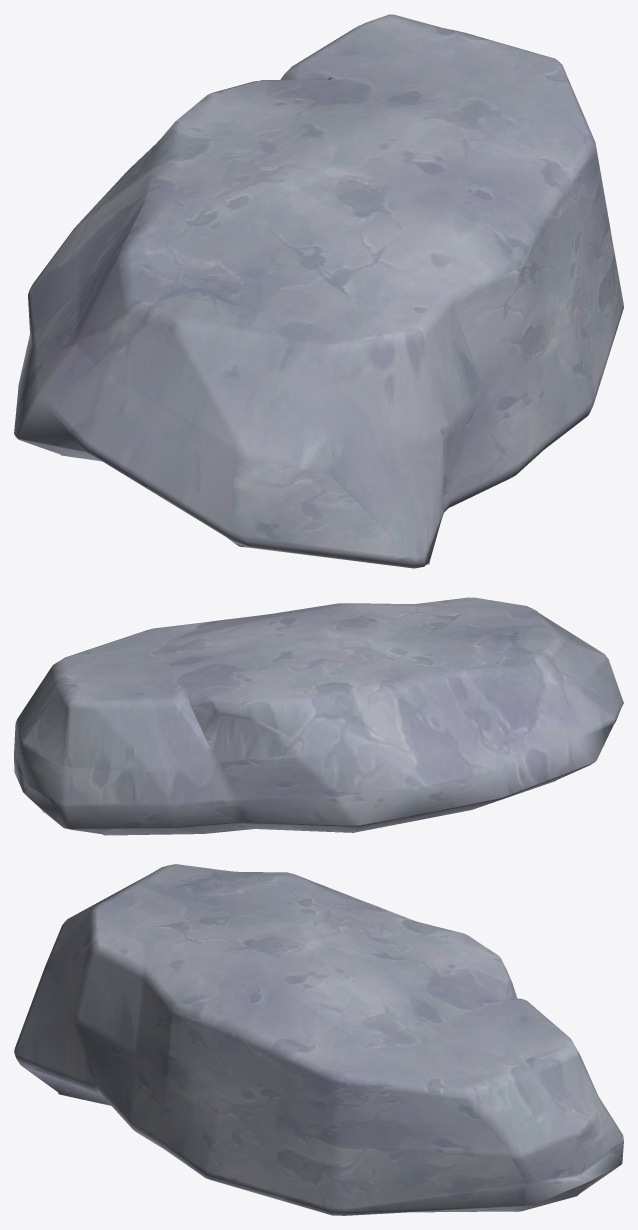
The model's file is rock2.fbx.
3 views of the same model, one above another, from view 1: azimuth 30°, elevation 25°; view 2: azimuth 150°, elevation 25°; view 3: azimuth 270°, elevation 25° (orthographic). The views are drawn at different scales.
Visible parts, largest first — view 1: Plane03; view 2: Plane03; view 3: Plane03.
Part boxes in pixels (x1,y1,x2,y2): Plane03: (14,14,623,568); Plane03: (14,597,623,835); Plane03: (14,864,623,1215).
Size of the model in its own units: 11.37 by 3.89 by 11.46.
